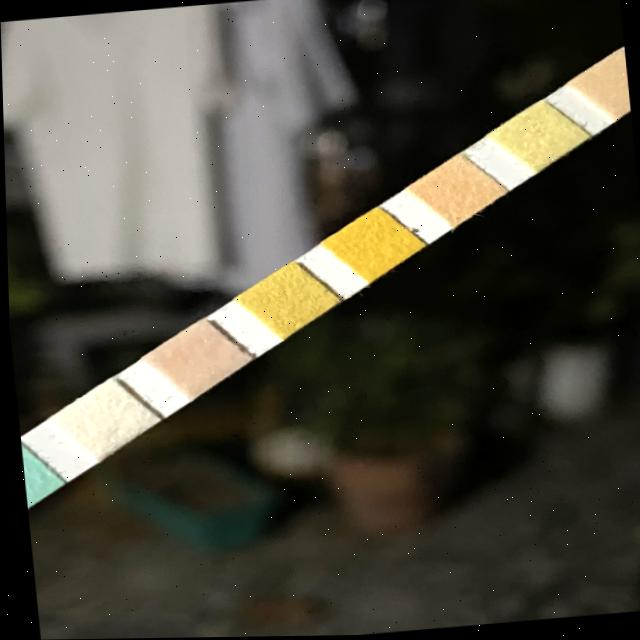Bilirubin: (76, 395, 130, 442)
Blood: (341, 222, 399, 269)
Glucose: (20, 455, 36, 500)
Ketone: (163, 337, 226, 379)
Protein: (507, 115, 566, 158)
SpGravity: (258, 278, 316, 321)
Urobilinogen: (585, 68, 629, 106)
pH: (425, 170, 486, 213)
